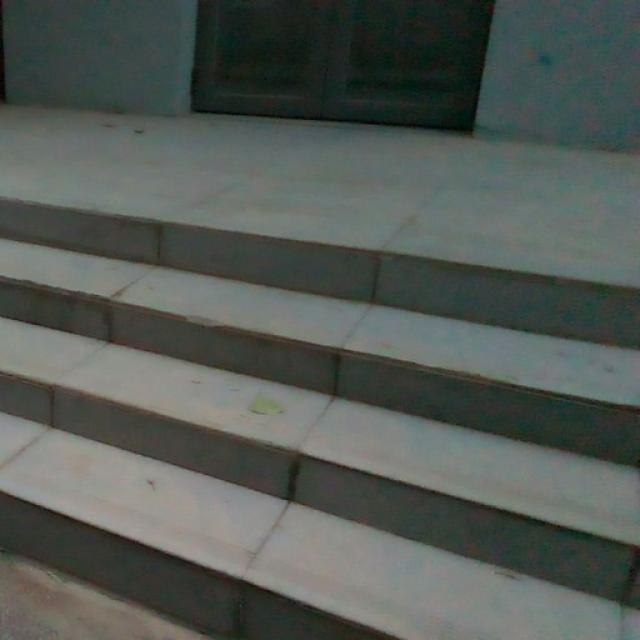stair: (7, 178, 640, 620)
